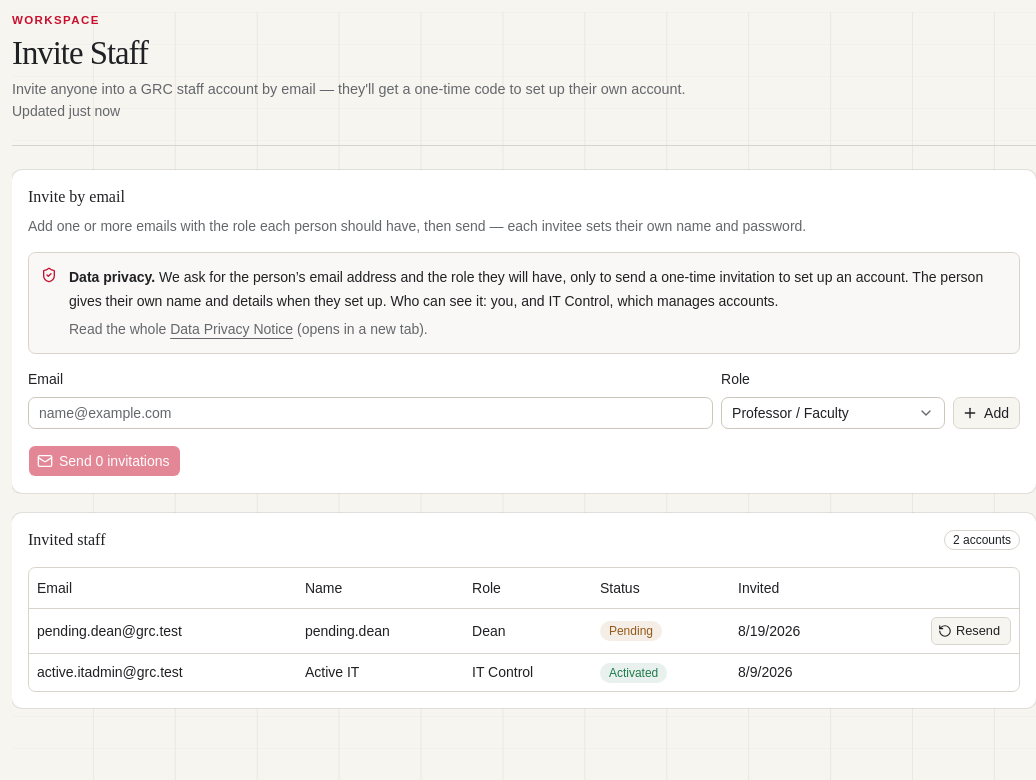
Test: StaffInvitationWorkspace › removes a queued invite before sending
Check: the text "pending.dean@grc.test" is shown, box [29,608,297,653]
Type "remove.me@grc.test" into the field labelled "Email". click: (371, 413)
box: [28,397,713,429]
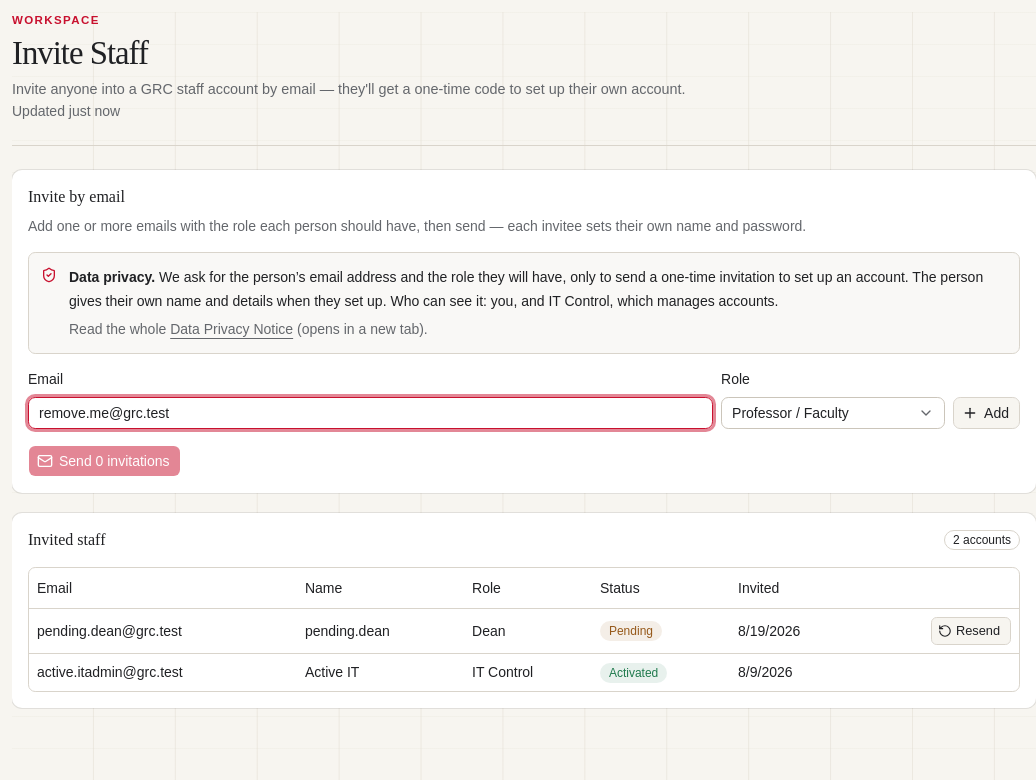
Click the button "Add". click: (987, 413)
box: [953,397,1020,429]
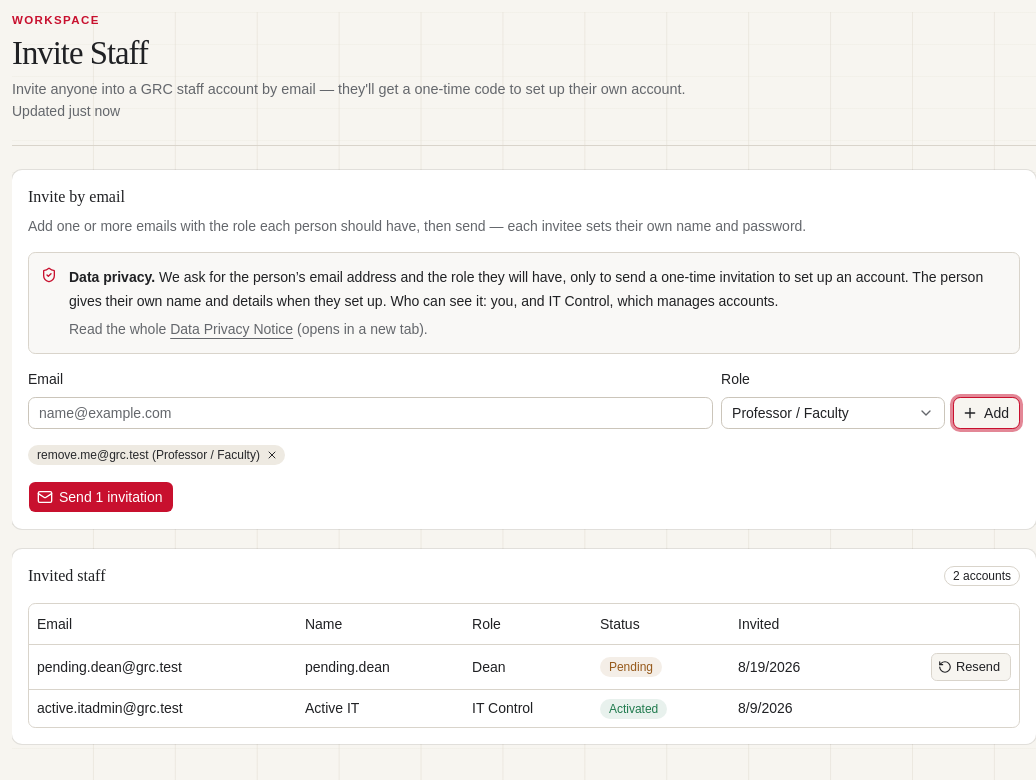
Check: the text "remove.me@grc.test (Professor / Faculty)" is shown, box [28,445,285,465]
Click the button named "Remove remove.me@grc.test". click: (272, 455)
box: [264,447,280,463]
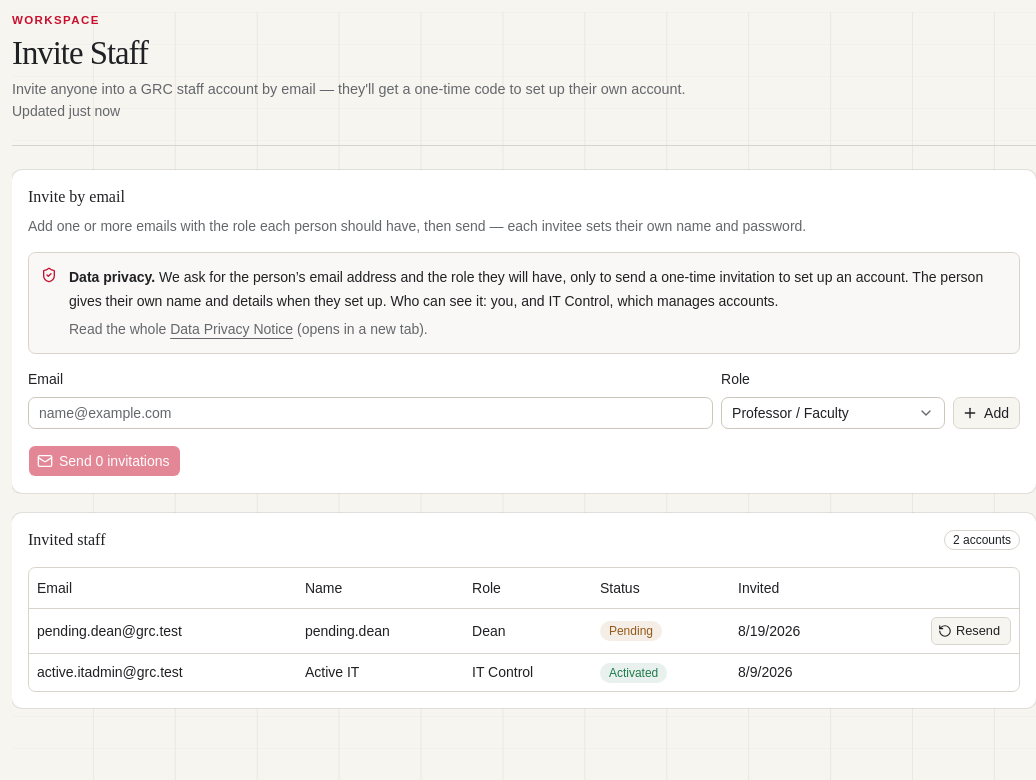
Check: the text "remove.me@grc.test (Professor / Faculty)" is gone
Check: the button "Send 0 invitations" is disabled, box [28,445,180,477]
